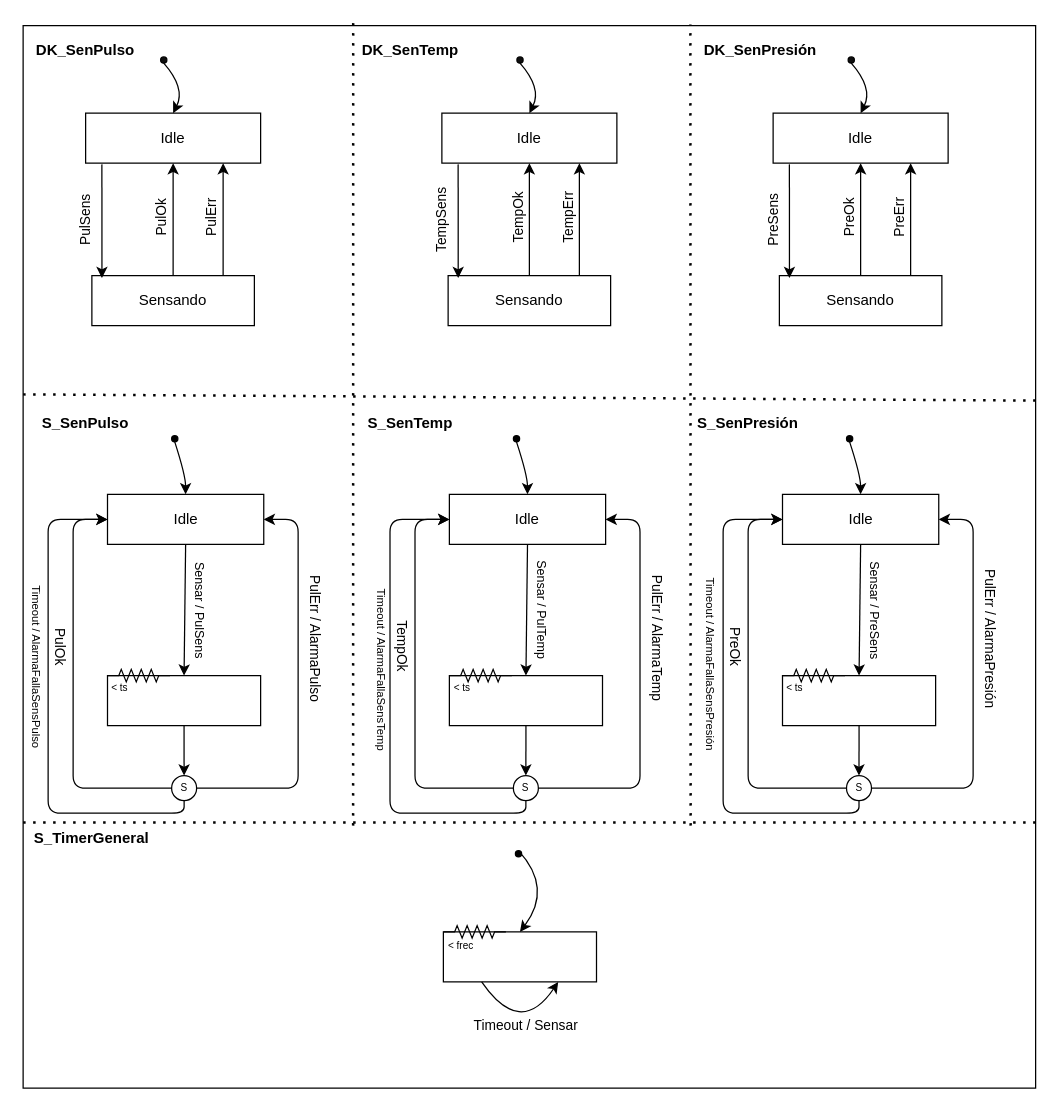
Image size: 1061x1111. Some labels were removed from this diagram. The box of each missing label's shape, as (x1, y1, x2, y2) in pixels:
PresiónSensando: (781, 674, 936, 726)
PulsoSensando: (106, 674, 261, 726)
TempSensando: (448, 674, 602, 726)
Timeando: (442, 931, 596, 982)
